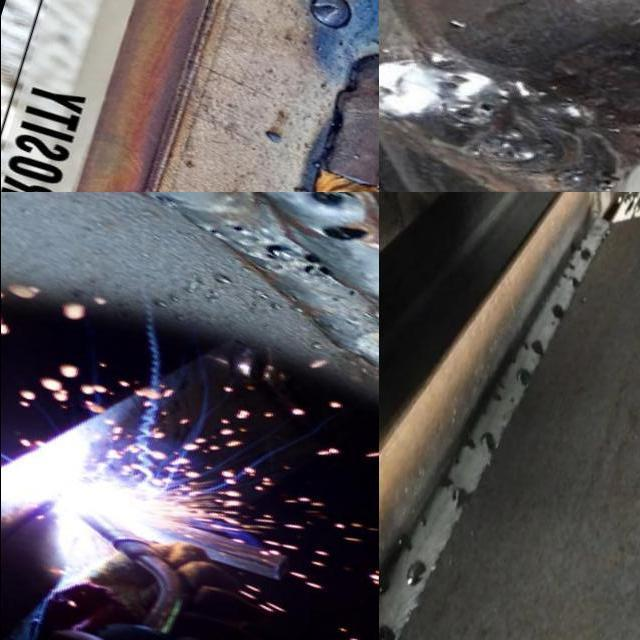defect: (316, 221, 378, 244), (440, 99, 499, 123), (297, 250, 336, 279), (305, 192, 361, 209), (433, 71, 476, 92), (446, 484, 474, 516), (402, 554, 426, 589), (555, 260, 581, 290), (257, 243, 292, 262), (520, 336, 546, 359), (548, 300, 567, 329), (479, 428, 498, 452), (516, 363, 531, 389), (378, 620, 397, 640), (395, 530, 413, 551), (459, 435, 476, 452), (575, 245, 592, 262), (493, 379, 505, 402), (153, 194, 176, 206), (439, 473, 454, 490), (378, 578, 390, 596), (346, 287, 361, 298), (419, 512, 429, 528), (330, 293, 347, 302), (230, 225, 246, 232), (452, 455, 462, 465), (507, 396, 516, 406), (209, 228, 219, 234)
